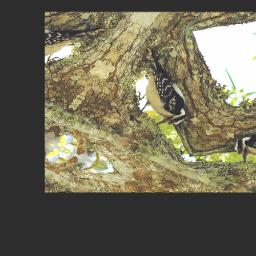Woodpecker: (104, 46, 223, 135)
